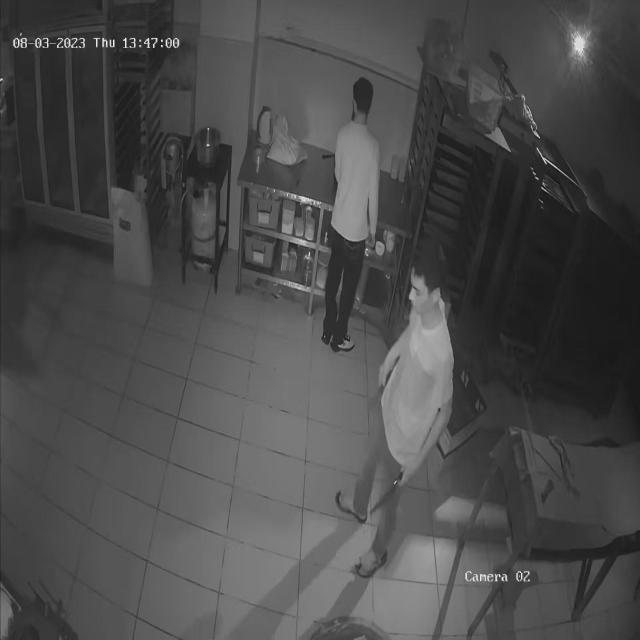Knife: (362, 476, 406, 516)
